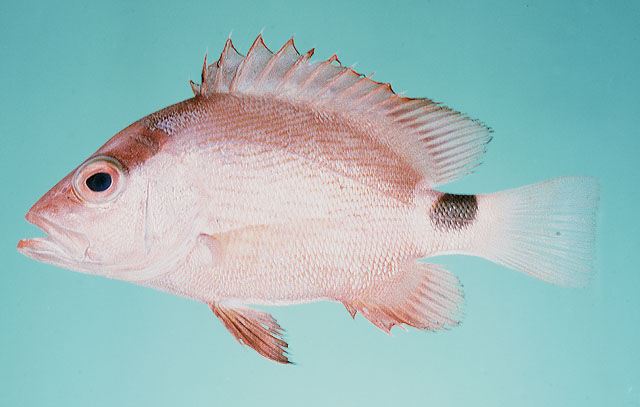fish: (16, 24, 600, 365)
